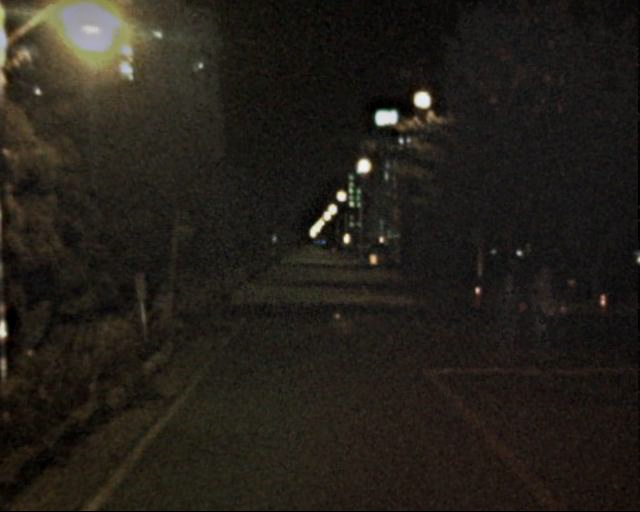person: (523, 261, 564, 360), (491, 271, 525, 353)
